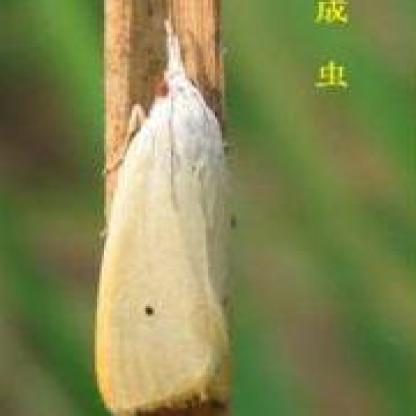stem-borer: (88, 17, 238, 416)
